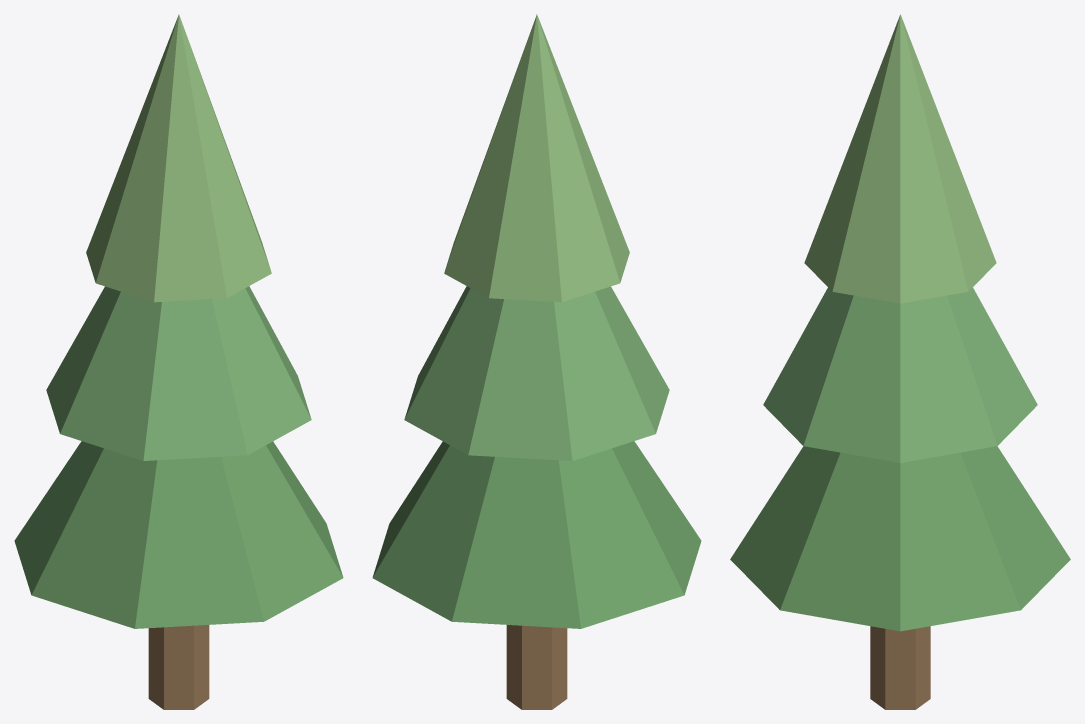
File: pine.glb
The picture shows the model from 3 angles, left to right: view 1: azimuth 30°, elevation 25°; view 2: azimuth 150°, elevation 25°; view 3: azimuth 270°, elevation 25°; orthographic projection.
Visible parts, largest first — view 1: tier_low, tier_mid, tier_top, trunk.001; view 2: tier_low, tier_mid, tier_top, trunk.001; view 3: tier_low, tier_mid, tier_top, trunk.001.
Boxes of the visible parts, <box> form: tier_low: <box>14,441,343,628</box>; tier_mid: <box>46,286,311,460</box>; tier_top: <box>86,14,271,302</box>; trunk.001: <box>148,625,209,709</box>; tier_low: <box>372,441,701,628</box>; tier_mid: <box>404,286,669,460</box>; tier_top: <box>444,14,629,302</box>; trunk.001: <box>506,625,567,709</box>; tier_low: <box>730,446,1070,631</box>; tier_mid: <box>763,287,1037,462</box>; tier_top: <box>804,14,996,303</box>; trunk.001: <box>870,626,930,709</box>.
Size of the model in its own units: 1.24 by 2.75 by 1.24.
